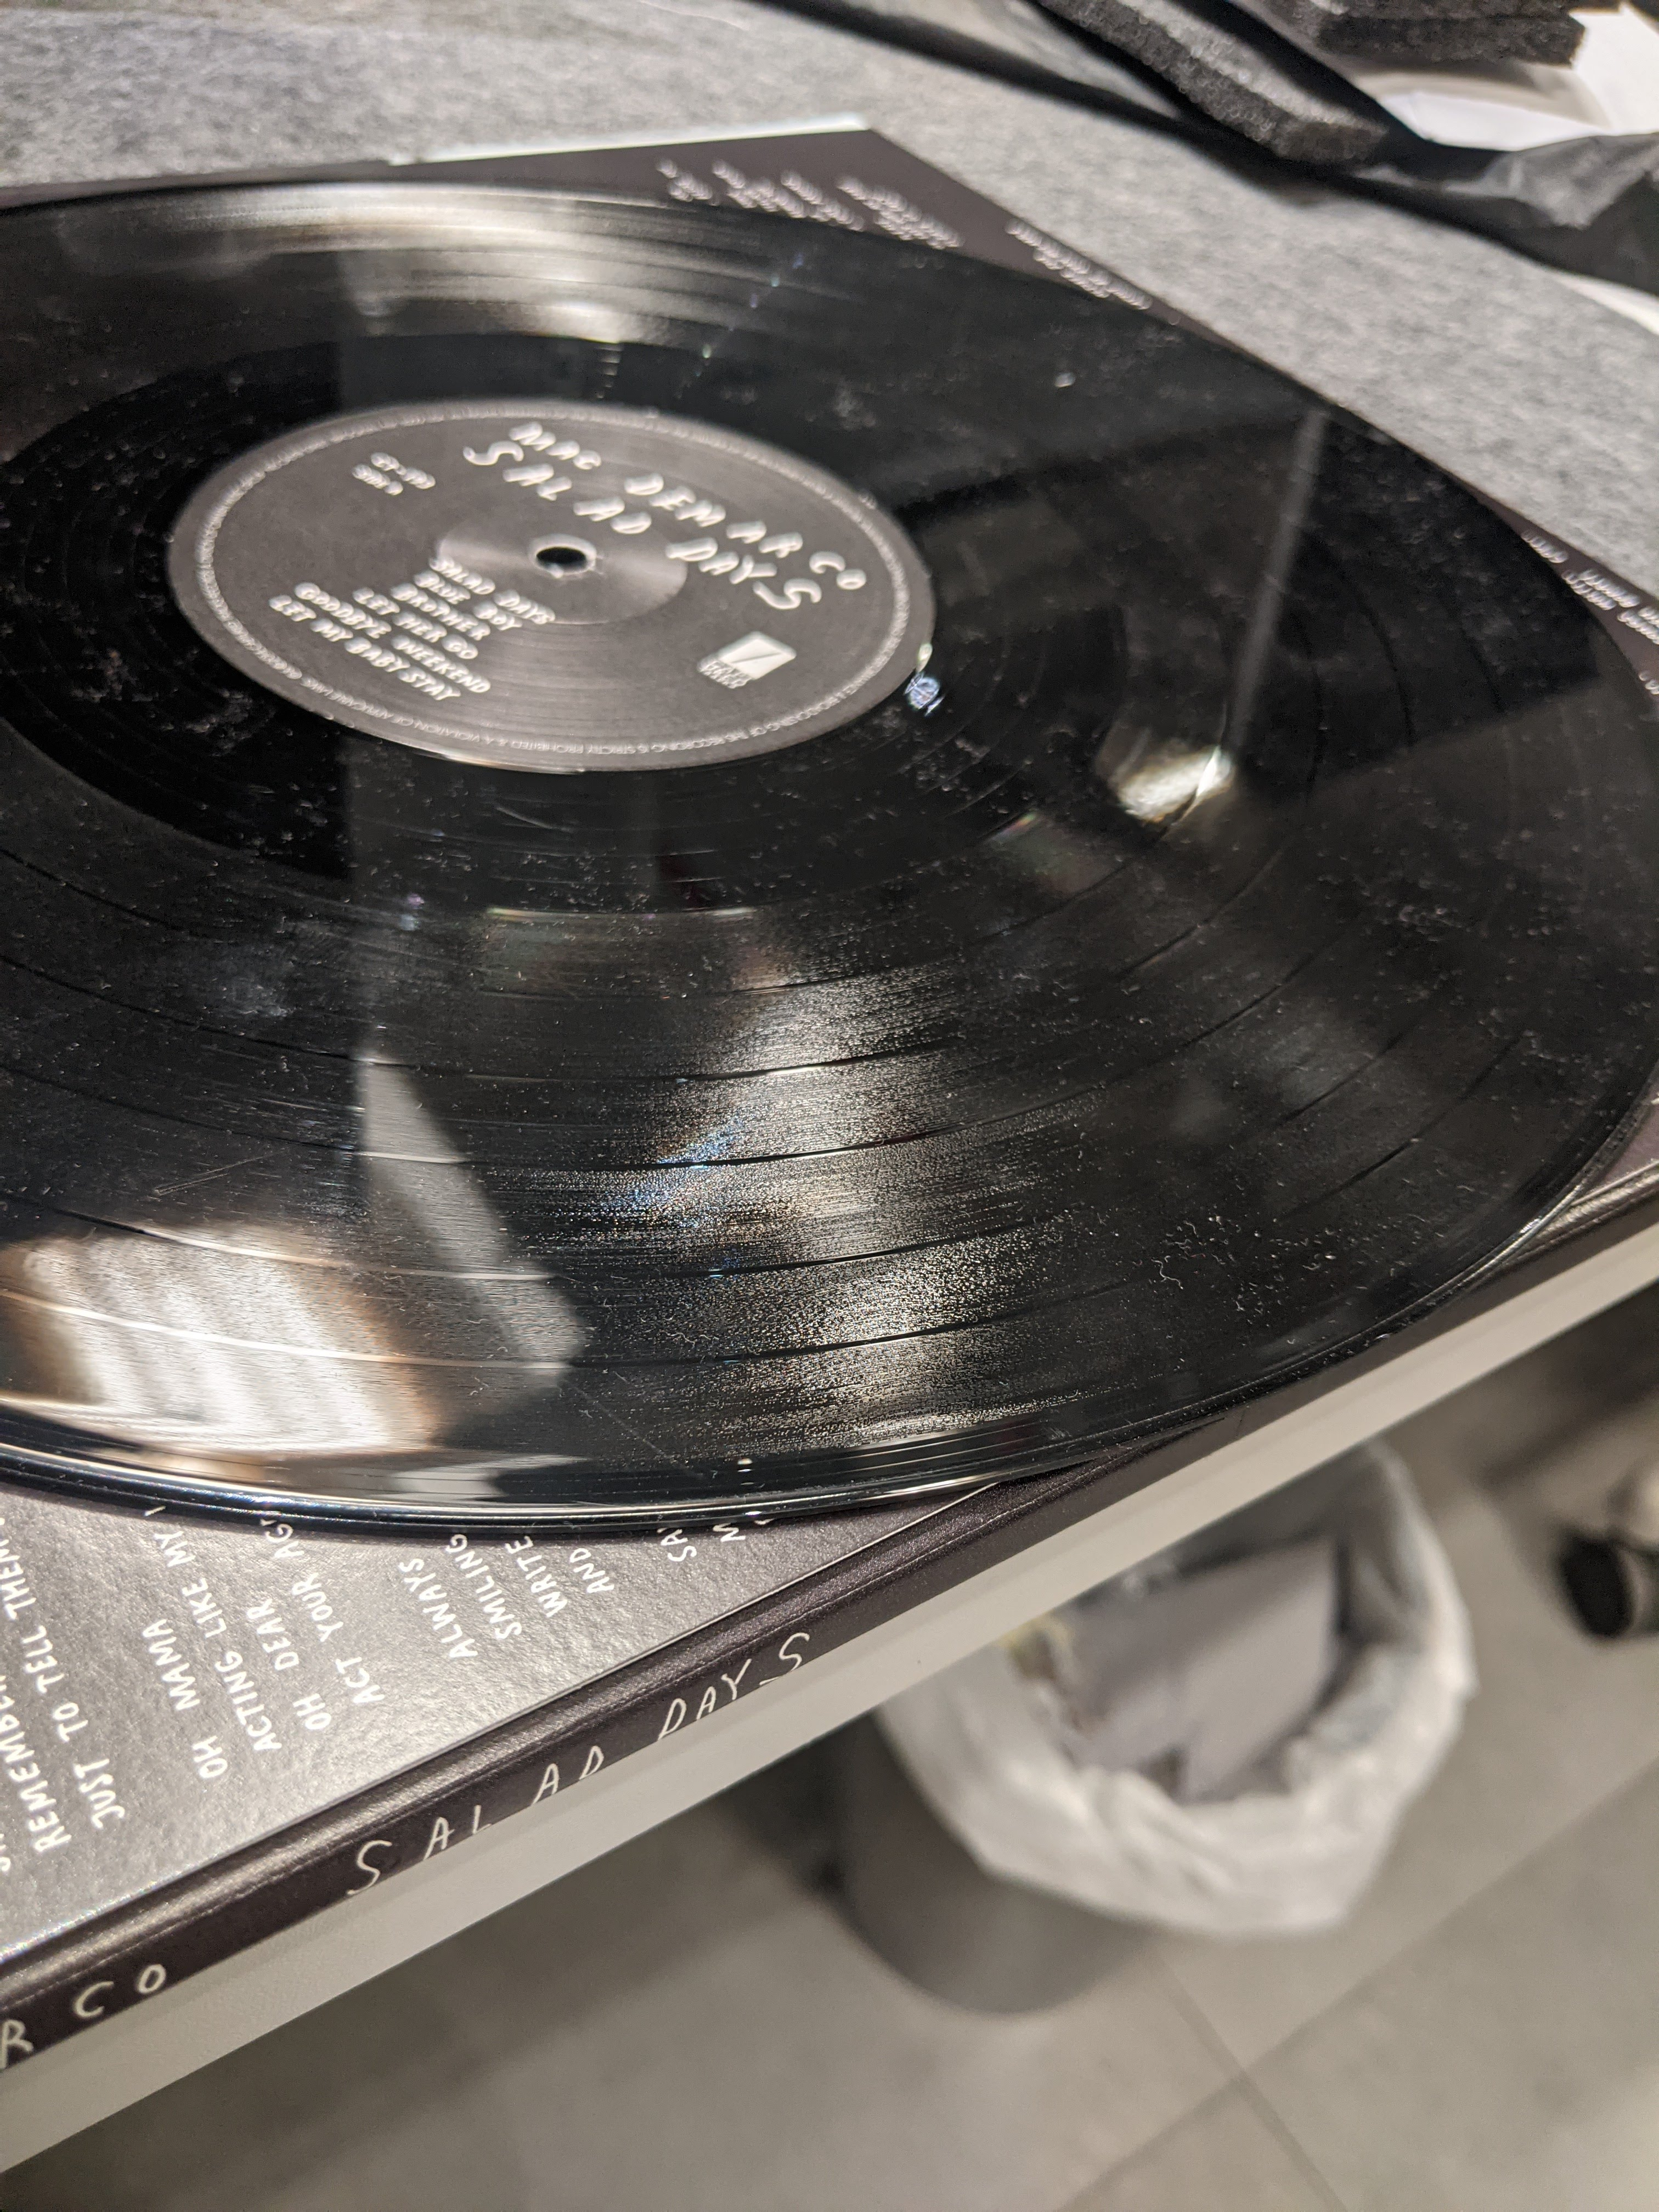song_edge: (394, 946, 662, 1042), (338, 1312, 552, 1428), (157, 1197, 338, 1306), (538, 1123, 748, 1217), (742, 1031, 979, 1108)
